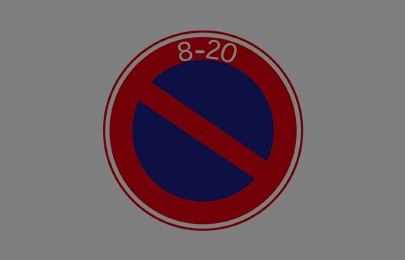Prohibition_sign: (98, 16, 304, 250)
